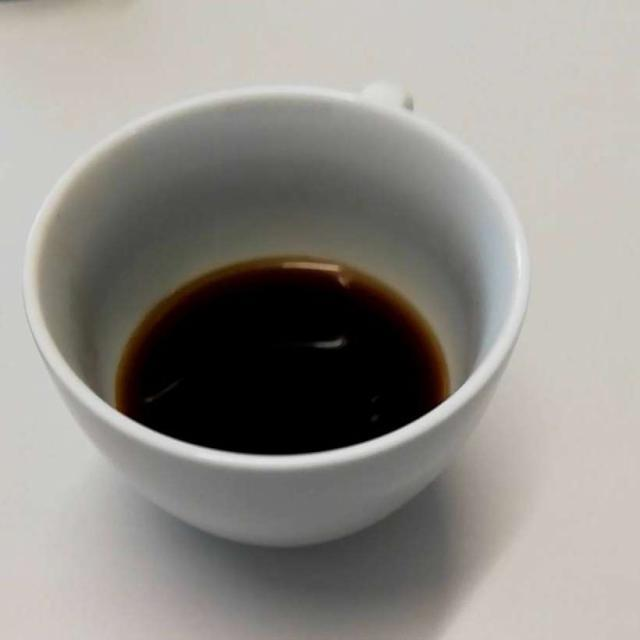coffee: (108, 259, 451, 449)
